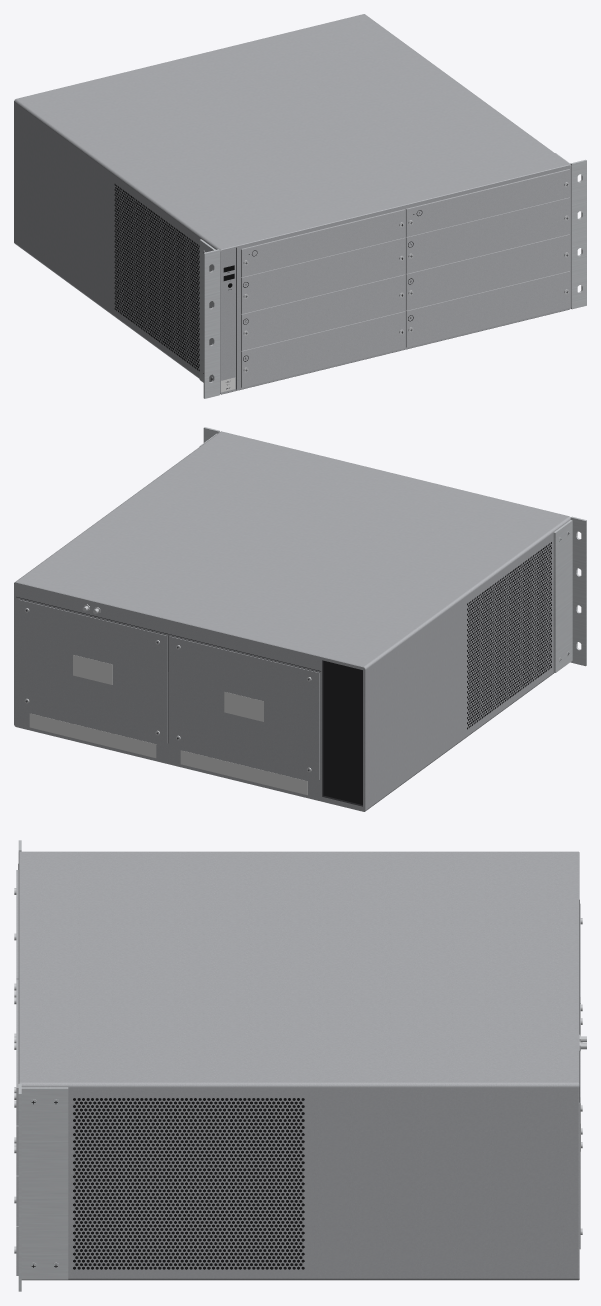
3 renders of one model, top to bottom at view 1: azimuth 30°, elevation 25°; view 2: azimuth 150°, elevation 25°; view 3: azimuth 270°, elevation 25°, orthographic. The views are drawn at different scales.
Visible parts, largest first — view 1: Shell, empty:E, empty:F, empty:D, empty:C, empty:A, empty:B, Rack_Ears, empty:MM1, empty:MM2; view 2: Shell, empty:PS2, empty:PS1, Rear, empty:Fan1, Rack_Ears; view 3: Shell, Rack_Ears.
Part boxes in pixels (x1,y1,x2,y2): Shell: (14,14,571,394); empty:E: (241,311,405,387); empty:F: (406,271,570,347); empty:D: (406,234,570,310); empty:C: (241,274,405,350); empty:A: (241,237,405,313); empty:B: (406,197,570,273); Rack_Ears: (199,153,586,398); empty:MM1: (241,209,405,277); empty:MM2: (406,169,570,236); Shell: (14,431,570,811); empty:PS2: (169,636,319,780); empty:PS1: (18,599,167,743); Rear: (14,582,365,811); empty:Fan1: (323,661,362,804); Rack_Ears: (199,427,586,672); Shell: (18,851,579,1280); Rack_Ears: (18,840,68,1291).
Bounding box in the file's own units: 0.4826 × 0.1752 × 0.4607.
9 materials, 3 textured.
